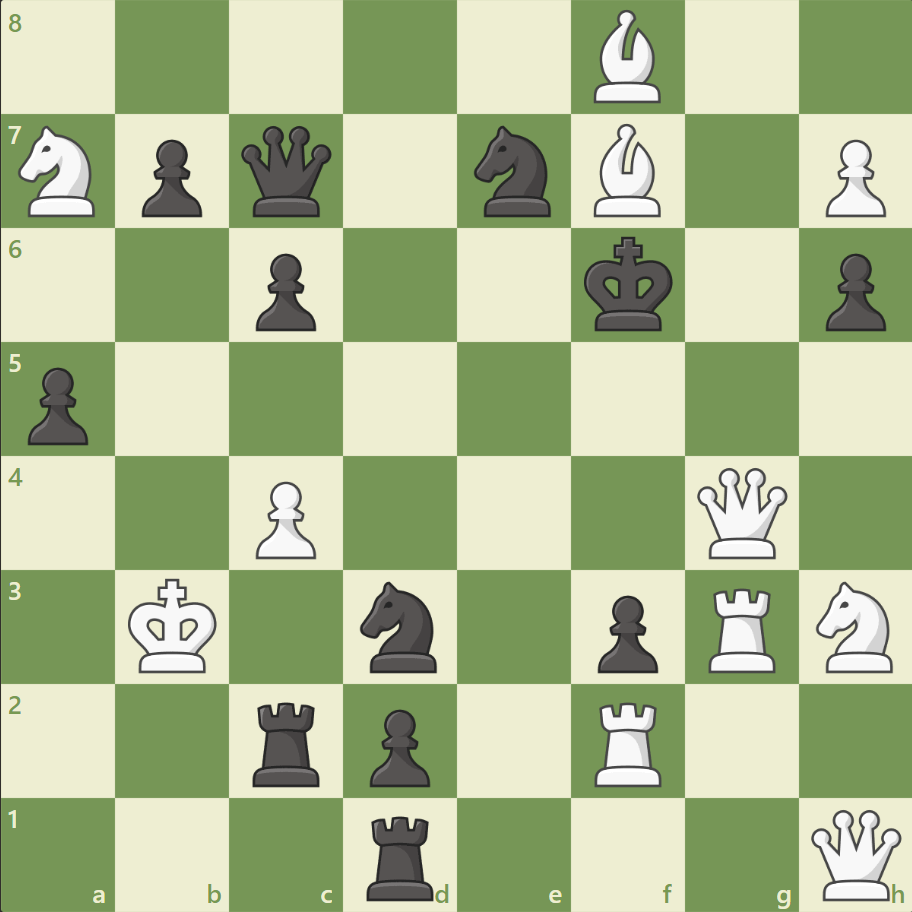B: (585, 6, 669, 109), (585, 120, 669, 222)
K: (124, 571, 224, 679)
N: (11, 121, 108, 223), (806, 575, 903, 677)
P: (247, 473, 322, 564), (815, 132, 889, 223)
Q: (691, 463, 790, 562), (805, 804, 904, 903)
R: (700, 579, 783, 676), (587, 693, 670, 790)
k: (579, 231, 679, 339)
n: (351, 575, 449, 677), (465, 121, 562, 223)
p: (133, 132, 208, 223), (247, 246, 322, 337), (20, 359, 95, 450), (815, 246, 889, 337), (588, 586, 662, 677), (361, 700, 435, 791)
q: (237, 122, 336, 222)
r: (246, 693, 329, 790), (360, 806, 442, 904)
